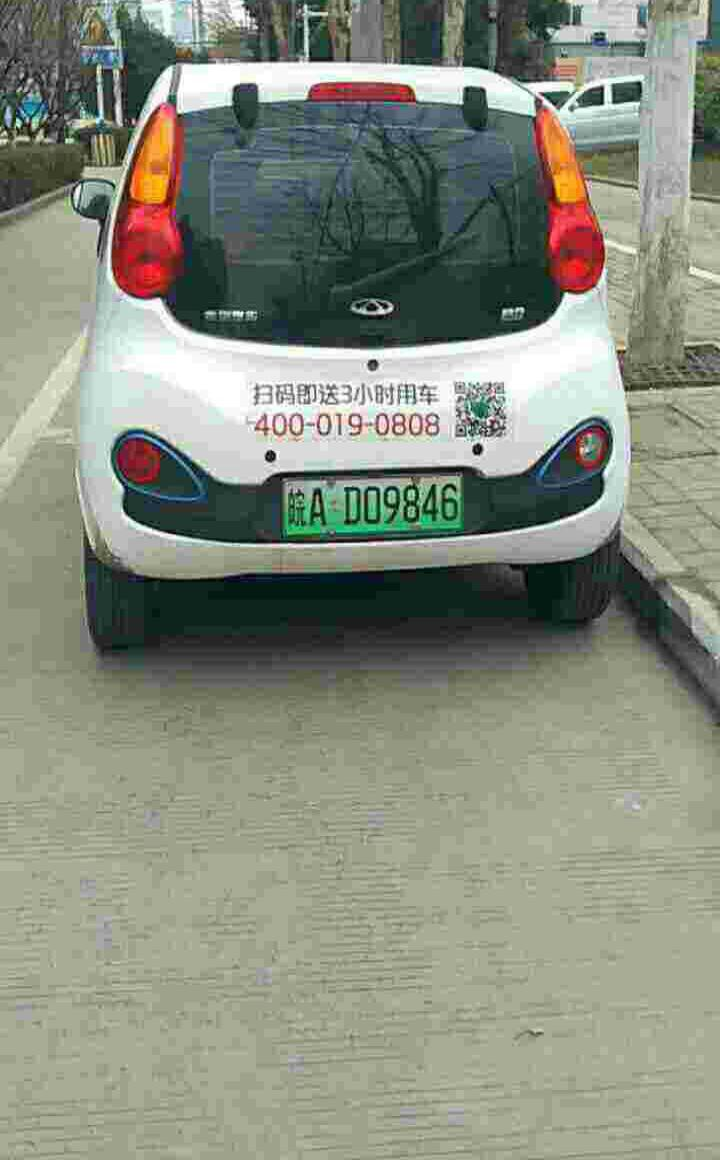car: (272, 473, 475, 542)
